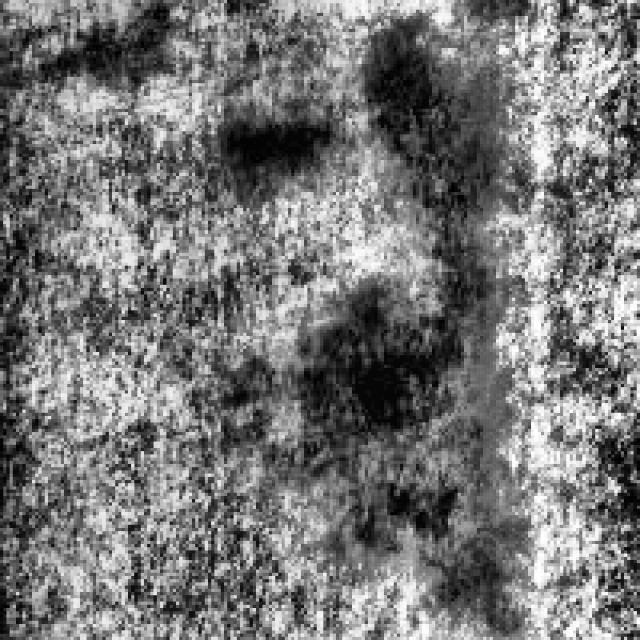Scratches: (227, 237, 496, 560), (356, 6, 502, 228), (214, 92, 336, 198), (42, 0, 170, 90)
